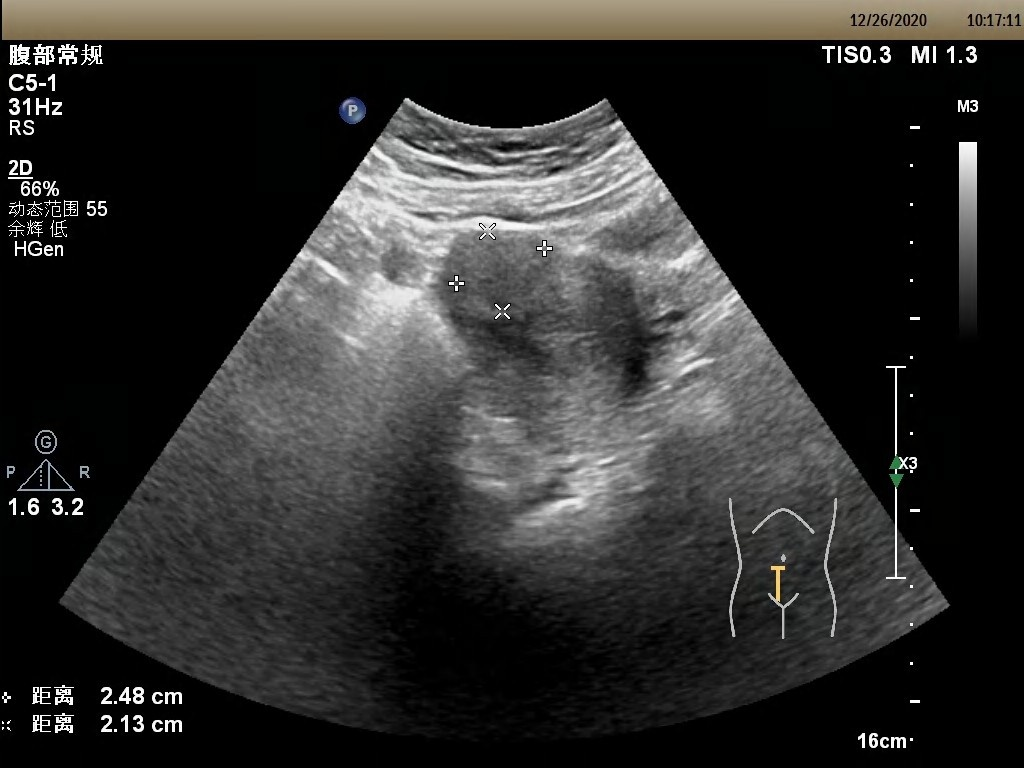肌瘤: (456, 231, 547, 310)
